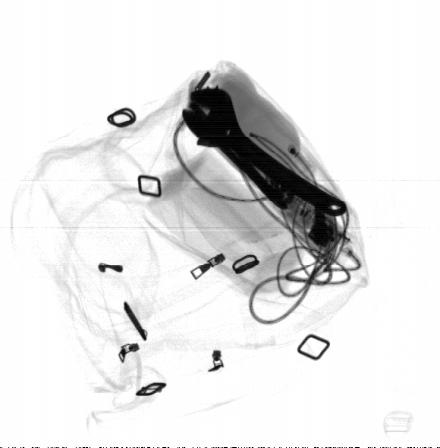Pliers: (183, 101, 297, 211)
Wrench: (182, 88, 347, 217)
